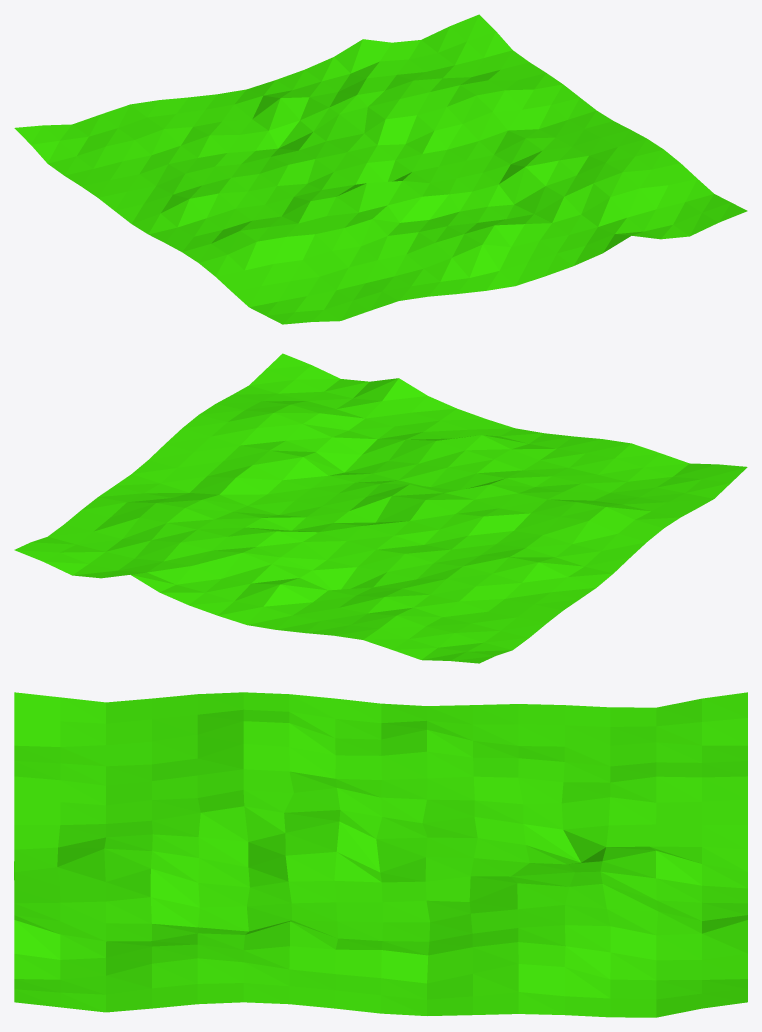
Rendered from groundTree.fbx.
The picture shows the model from 3 angles, top to bottom: view 1: azimuth 30°, elevation 25°; view 2: azimuth 150°, elevation 25°; view 3: azimuth 270°, elevation 25°; orthographic projection. The views are drawn at different scales.
Visible parts, largest first — view 1: Plane.003; view 2: Plane.003; view 3: Plane.003.
Boxes of the visible parts, bbox=[...] form: Plane.003: bbox=[14, 14, 747, 324]; Plane.003: bbox=[14, 353, 747, 663]; Plane.003: bbox=[14, 692, 747, 1017].
Size of the model in its own units: 2000 by 135 by 2001.
